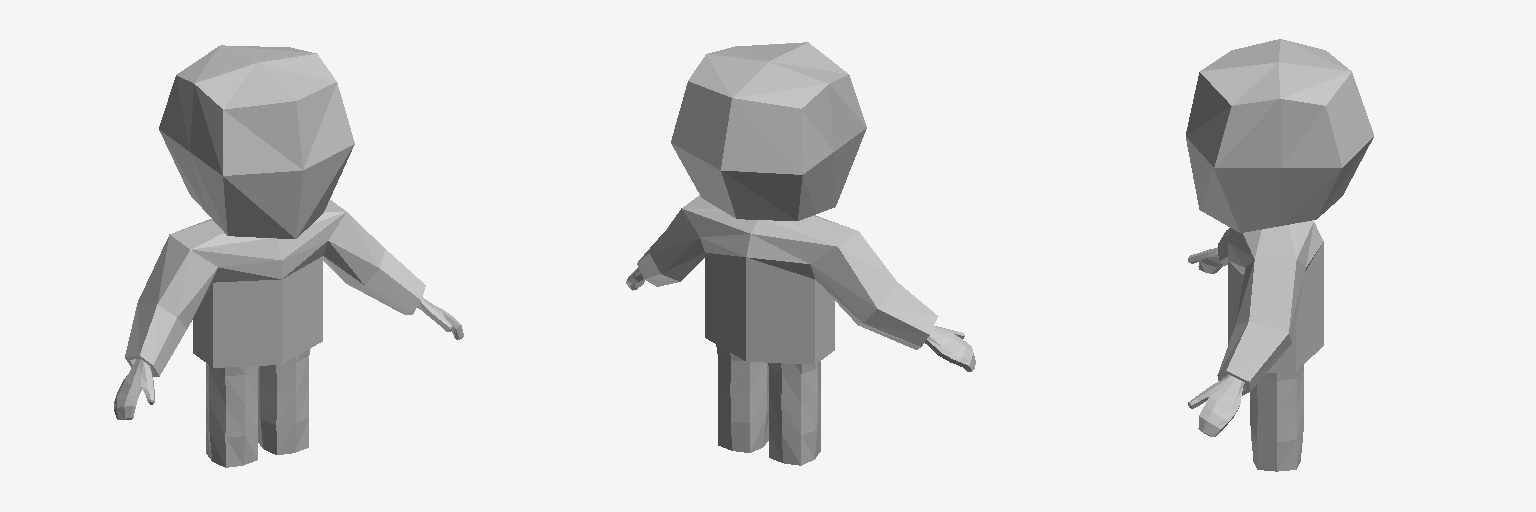
Rendered from character3.obj.
3 views of the same model, side by side, from view 1: azimuth 30°, elevation 25°; view 2: azimuth 150°, elevation 25°; view 3: azimuth 270°, elevation 25° (orthographic).
Parts seen in each view (by area): view 1: Cube.002_Cube, Cube_Torso, Cube.001_Legs, Cube.003_Head; view 2: Cube_Torso, Cube.002_Cube, Cube.001_Legs, Cube.003_Head; view 3: Cube.002_Cube, Cube_Torso, Cube.001_Legs, Cube.003_Head.
Part boxes in pixels (left/top/right/bottom): Cube.002_Cube: left=159, top=45, right=354, bottom=238; Cube_Torso: left=125, top=200, right=425, bottom=376; Cube.001_Legs: left=206, top=349, right=309, bottom=467; Cube.003_Head: left=114, top=297, right=463, bottom=419; Cube_Torso: left=637, top=195, right=937, bottom=364; Cube.002_Cube: left=671, top=42, right=866, bottom=220; Cube.001_Legs: left=716, top=345, right=820, bottom=465; Cube.003_Head: left=626, top=267, right=975, bottom=371; Cube.002_Cube: left=1186, top=39, right=1373, bottom=232; Cube_Torso: left=1217, top=220, right=1323, bottom=395; Cube.001_Legs: left=1250, top=365, right=1303, bottom=471; Cube.003_Head: left=1188, top=247, right=1244, bottom=436.
Size of the model in its own units: 6.25 by 6.72 by 2.98.